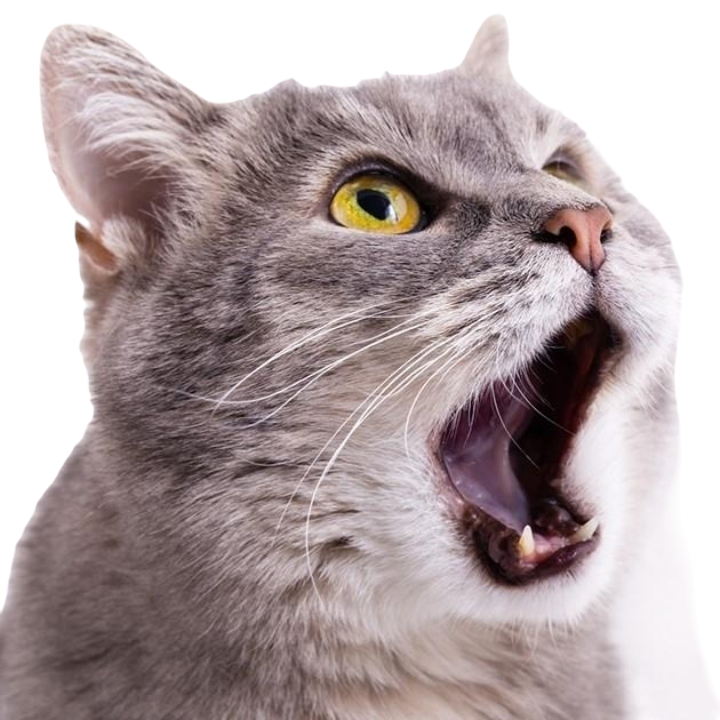Cat: (0, 13, 719, 719)
